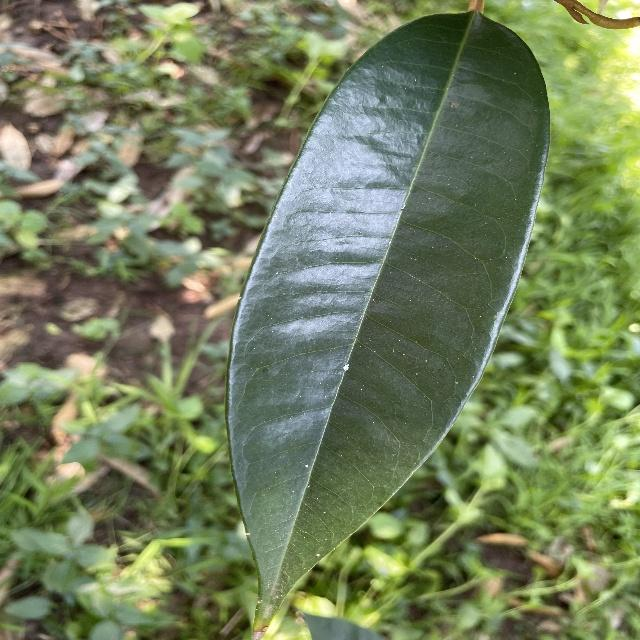No Disease: (221, 5, 559, 640)
